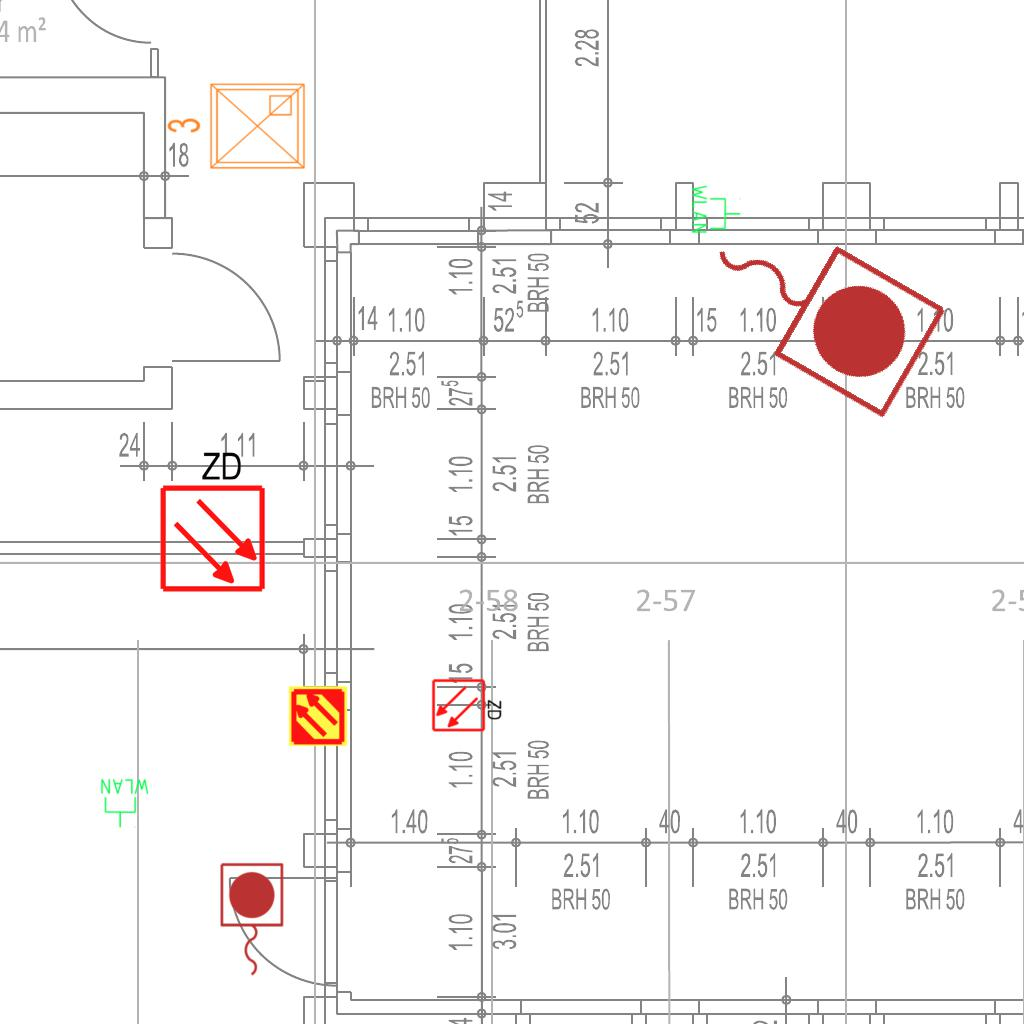ASR_Ansaugrauchmelder: (287, 685, 349, 747)
Einbaudownlights_LED_Konferenzraeume: (162, 76, 312, 180)
WLAN: (99, 777, 151, 829), (690, 183, 742, 235)
ZD_Melder_in_Zwischendecke_mit_Revisionsoeffnung_mind_40_x_40_cm: (154, 445, 268, 594), (431, 676, 505, 733)
Zugtaster: (675, 181, 959, 429), (215, 859, 287, 981)
